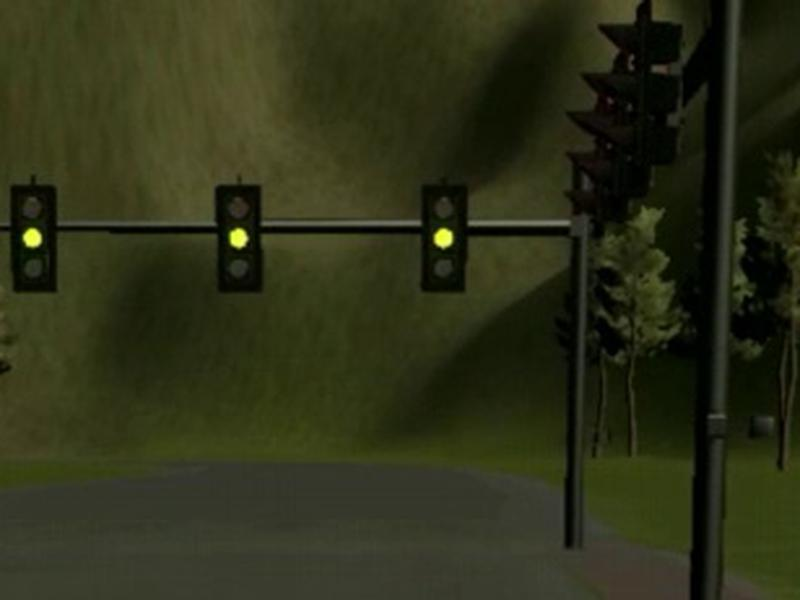Yellow: (214, 183, 264, 292), (11, 184, 59, 293), (422, 185, 469, 292)
